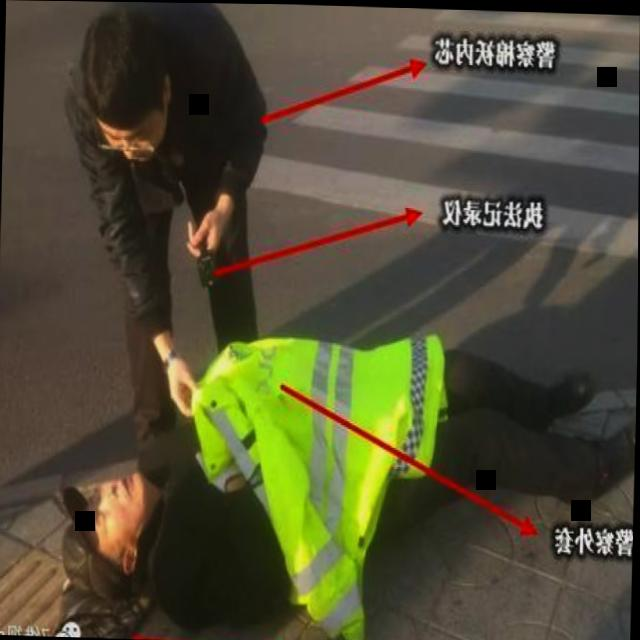Fall-Detected: (49, 283, 638, 640)
